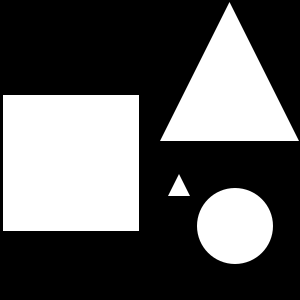circle: (3, 95, 139, 231)
rectangle: (197, 188, 273, 264)
triangle: (160, 2, 299, 141), (168, 174, 190, 196)
